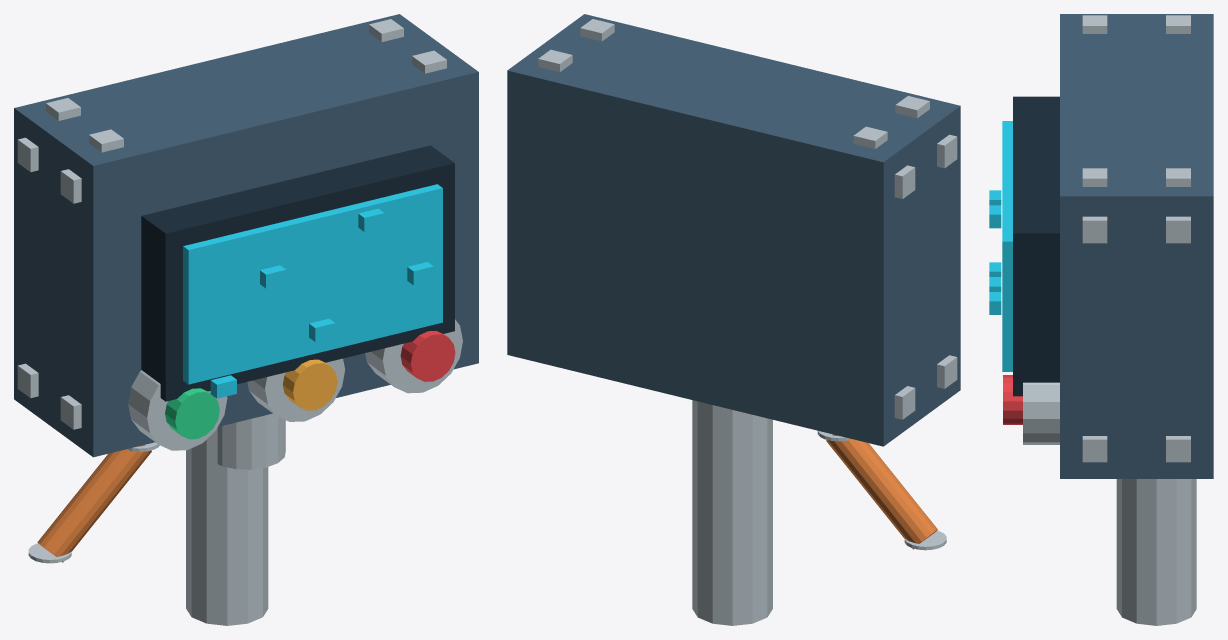
File: 44_L77_CopperCorrosionPotentialMonitor.fbx
3 views of the same model, side by side, from view 1: azimuth 30°, elevation 25°; view 2: azimuth 150°, elevation 25°; view 3: azimuth 270°, elevation 25° (orthographic). The views are drawn at different scales.
Parts seen in each view (by area): view 1: CopperCorrosionPotentialMonitor_Part_0000, CopperCorrosionPotentialMonitor_Part_0010, CopperCorrosionPotentialMonitor_Part_0009, CopperCorrosionPotentialMonitor_Part_0026, CopperCorrosionPotentialMonitor_Part_0023, CopperCorrosionPotentialMonitor_Part_0022, CopperCorrosionPotentialMonitor_Part_0016, CopperCorrosionPotentialMonitor_Part_0017, CopperCorrosionPotentialMonitor_Part_0019, CopperCorrosionPotentialMonitor_Part_0021, CopperCorrosionPotentialMonitor_Part_0020, CopperCorrosionPotentialMonitor_Part_0018; view 2: CopperCorrosionPotentialMonitor_Part_0000, CopperCorrosionPotentialMonitor_Part_0026, CopperCorrosionPotentialMonitor_Part_0023; view 3: CopperCorrosionPotentialMonitor_Part_0000, CopperCorrosionPotentialMonitor_Part_0009, CopperCorrosionPotentialMonitor_Part_0026, CopperCorrosionPotentialMonitor_Part_0010, CopperCorrosionPotentialMonitor_Part_0020, CopperCorrosionPotentialMonitor_Part_0021, CopperCorrosionPotentialMonitor_Part_0004, CopperCorrosionPotentialMonitor_Part_0002, CopperCorrosionPotentialMonitor_Part_0003, CopperCorrosionPotentialMonitor_Part_0001, CopperCorrosionPotentialMonitor_Part_0006, CopperCorrosionPotentialMonitor_Part_0008 (+2 smaller).
Part boxes in pixels (x1,y1,x2,y2): CopperCorrosionPotentialMonitor_Part_0000: (14,14,478,457); CopperCorrosionPotentialMonitor_Part_0010: (183,184,442,384); CopperCorrosionPotentialMonitor_Part_0009: (141,145,454,401); CopperCorrosionPotentialMonitor_Part_0026: (186,428,268,625); CopperCorrosionPotentialMonitor_Part_0023: (37,445,151,562); CopperCorrosionPotentialMonitor_Part_0022: (217,413,285,469); CopperCorrosionPotentialMonitor_Part_0016: (128,370,227,450); CopperCorrosionPotentialMonitor_Part_0017: (165,388,219,439); CopperCorrosionPotentialMonitor_Part_0019: (283,359,337,410); CopperCorrosionPotentialMonitor_Part_0021: (400,331,455,381); CopperCorrosionPotentialMonitor_Part_0020: (365,319,462,393); CopperCorrosionPotentialMonitor_Part_0018: (247,358,345,421); CopperCorrosionPotentialMonitor_Part_0000: (507,14,960,446); CopperCorrosionPotentialMonitor_Part_0026: (692,400,772,625); CopperCorrosionPotentialMonitor_Part_0023: (826,434,937,549); CopperCorrosionPotentialMonitor_Part_0000: (1060,14,1213,478); CopperCorrosionPotentialMonitor_Part_0009: (1013,96,1059,396); CopperCorrosionPotentialMonitor_Part_0026: (1116,479,1196,625); CopperCorrosionPotentialMonitor_Part_0010: (1002,121,1012,371); CopperCorrosionPotentialMonitor_Part_0020: (1023,382,1059,444); CopperCorrosionPotentialMonitor_Part_0021: (1003,375,1022,424); CopperCorrosionPotentialMonitor_Part_0004: (1082,216,1107,243); CopperCorrosionPotentialMonitor_Part_0002: (1082,436,1107,462); CopperCorrosionPotentialMonitor_Part_0003: (1166,216,1190,243); CopperCorrosionPotentialMonitor_Part_0001: (1166,436,1190,462); CopperCorrosionPotentialMonitor_Part_0006: (1082,15,1107,33); CopperCorrosionPotentialMonitor_Part_0008: (1082,168,1107,186).
Size of the model in its own units: 46.61 by 57 by 22.42.
